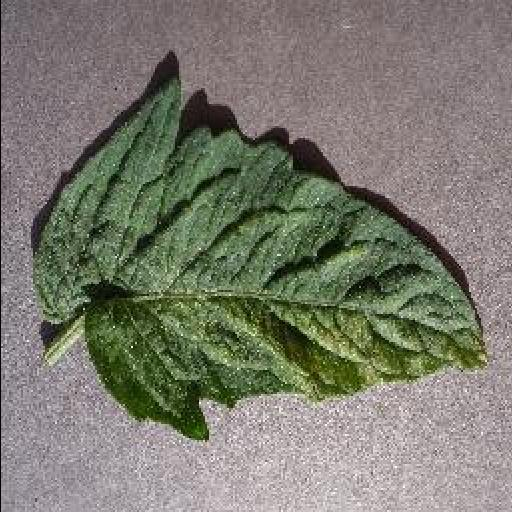disease_tomato: (35, 76, 489, 438)
